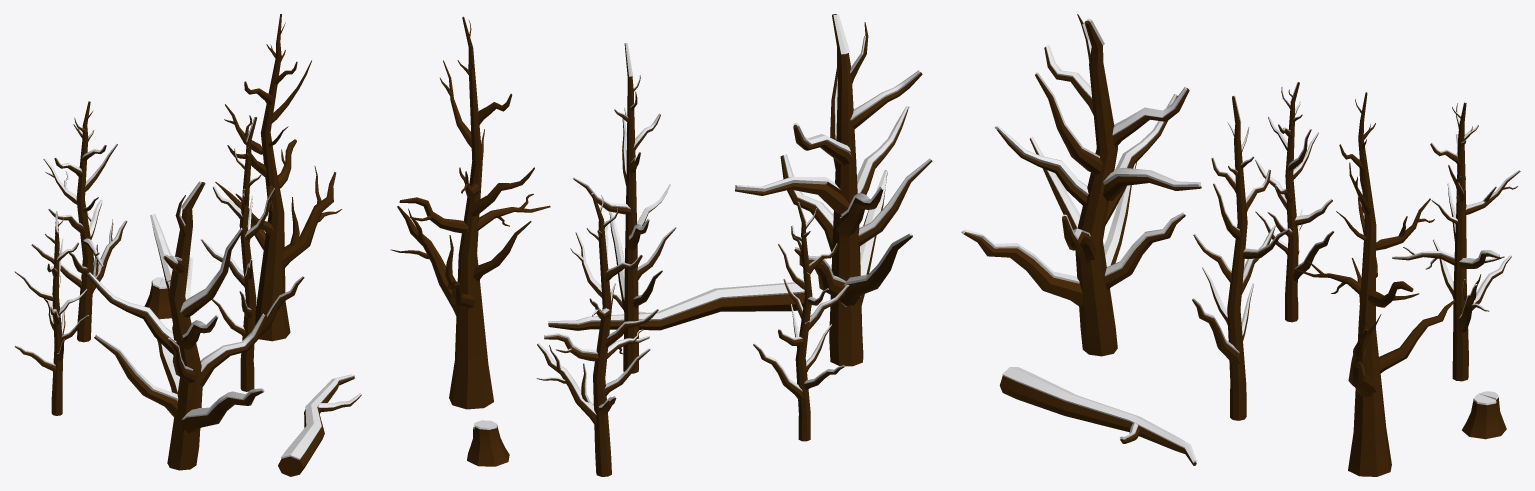
File: deathtreemountain3_lev5.glb
3 renders of one model, left to right at view 1: azimuth 30°, elevation 25°; view 2: azimuth 150°, elevation 25°; view 3: azimuth 270°, elevation 25°, orthographic. The views are drawn at different scales.
Parts seen in each view (by area): view 1: Dead_tree_1.005, Father_tree.005, Dead_tree_3.005, polySurface70.011, Dead_tree_2.005, Dead_branch.005, Tree_stump.005; view 2: Dead_tree_1.005, Father_tree.005, Dead_tree_3.005, polySurface70.011, Dead_tree_2.005, Dead_branch.005, Tree_stump.005; view 3: Dead_tree_1.005, Father_tree.005, polySurface70.011, Dead_tree_3.005, Dead_branch.005, Dead_tree_2.005, Tree_stump.005.
Boxes of the visible parts, x1,y1,x2,y2 form: Dead_tree_1.005: [87, 180, 267, 470]; Father_tree.005: [215, 14, 342, 341]; Dead_tree_3.005: [31, 101, 127, 342]; polySurface70.011: [200, 116, 304, 391]; Dead_tree_2.005: [14, 211, 88, 415]; Dead_branch.005: [278, 374, 361, 476]; Tree_stump.005: [144, 277, 171, 319]; Dead_tree_1.005: [735, 14, 932, 366]; Father_tree.005: [390, 16, 550, 409]; Dead_tree_3.005: [536, 193, 658, 476]; polySurface70.011: [572, 43, 676, 373]; Dead_tree_2.005: [753, 201, 849, 441]; Dead_branch.005: [548, 282, 811, 330]; Tree_stump.005: [467, 420, 509, 466]; Dead_tree_1.005: [961, 14, 1201, 356]; Father_tree.005: [1296, 92, 1455, 476]; polySurface70.011: [1192, 95, 1290, 420]; Dead_tree_3.005: [1392, 101, 1520, 381]; Dead_branch.005: [999, 367, 1196, 465]; Dead_tree_2.005: [1255, 81, 1333, 322]; Tree_stump.005: [1462, 391, 1506, 439].
Bounding box in the file's own units: 26.25 × 22.65 × 30.06.
